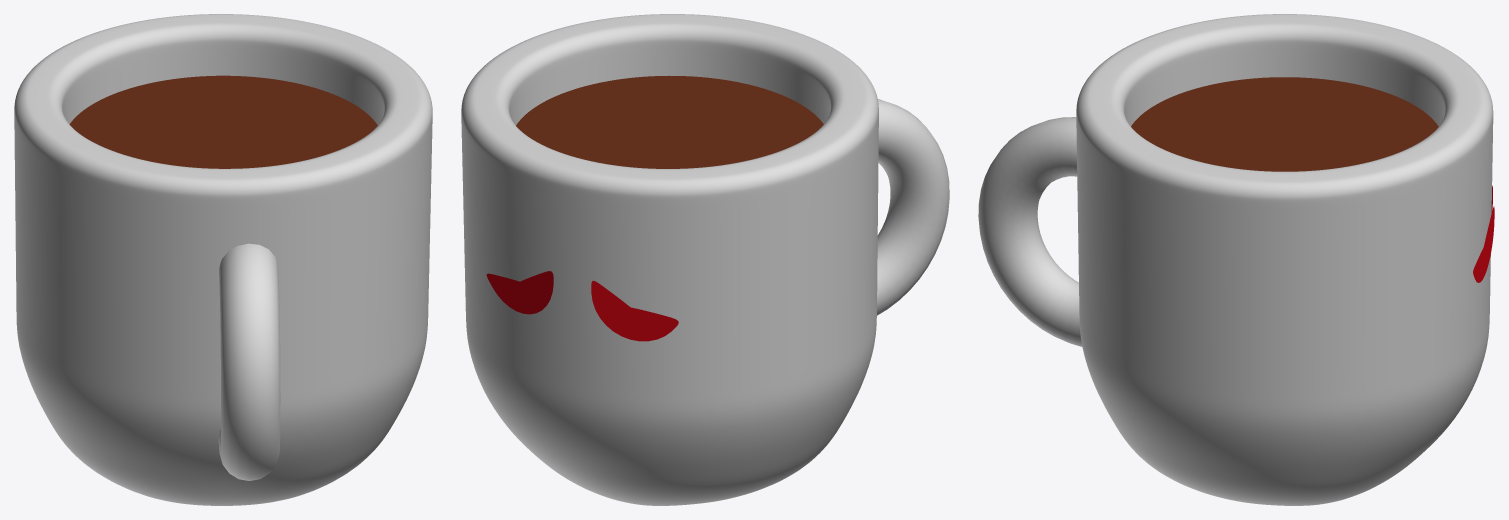
Rendered from coffee.fbx.
The picture shows the model from 3 angles, left to right: view 1: azimuth 30°, elevation 25°; view 2: azimuth 150°, elevation 25°; view 3: azimuth 270°, elevation 25°; orthographic projection.
Visible parts, largest first — view 1: Circle; view 2: Circle; view 3: Circle.
Boxes of the visible parts, x1,y1,x2,y2 form: Circle: (14, 14, 432, 505); Circle: (461, 14, 949, 505); Circle: (978, 14, 1494, 505).
Size of the model in its own units: 172 by 173 by 213.
